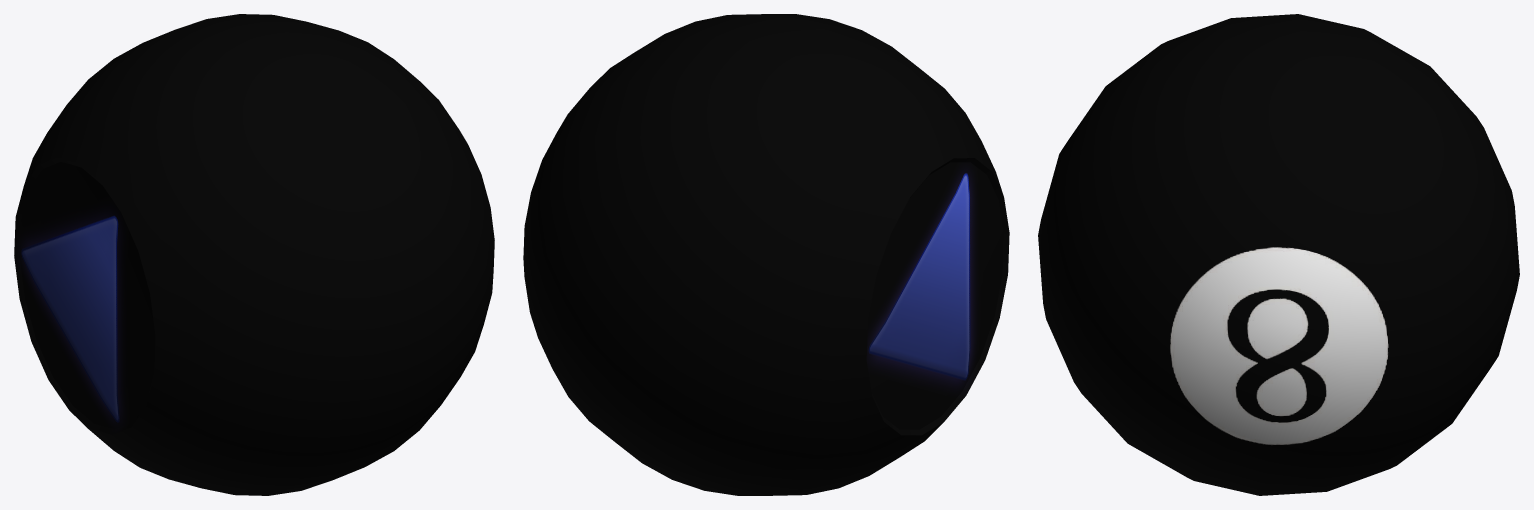
File: 8Ball.fbx
3 renders of one model, left to right at view 1: azimuth 30°, elevation 25°; view 2: azimuth 150°, elevation 25°; view 3: azimuth 270°, elevation 25°, orthographic.
Visible parts, largest first — view 1: pSphere1; view 2: pSphere1; view 3: pSphere1.
Part boxes in pixels (x1=…): pSphere1: x1=14, y1=14, x2=494, y2=495; pSphere1: x1=523, y1=14, x2=1009, y2=495; pSphere1: x1=1038, y1=14, x2=1519, y2=495.
Bounding box in the file's own units: 1.81 × 1.99 × 1.99.
